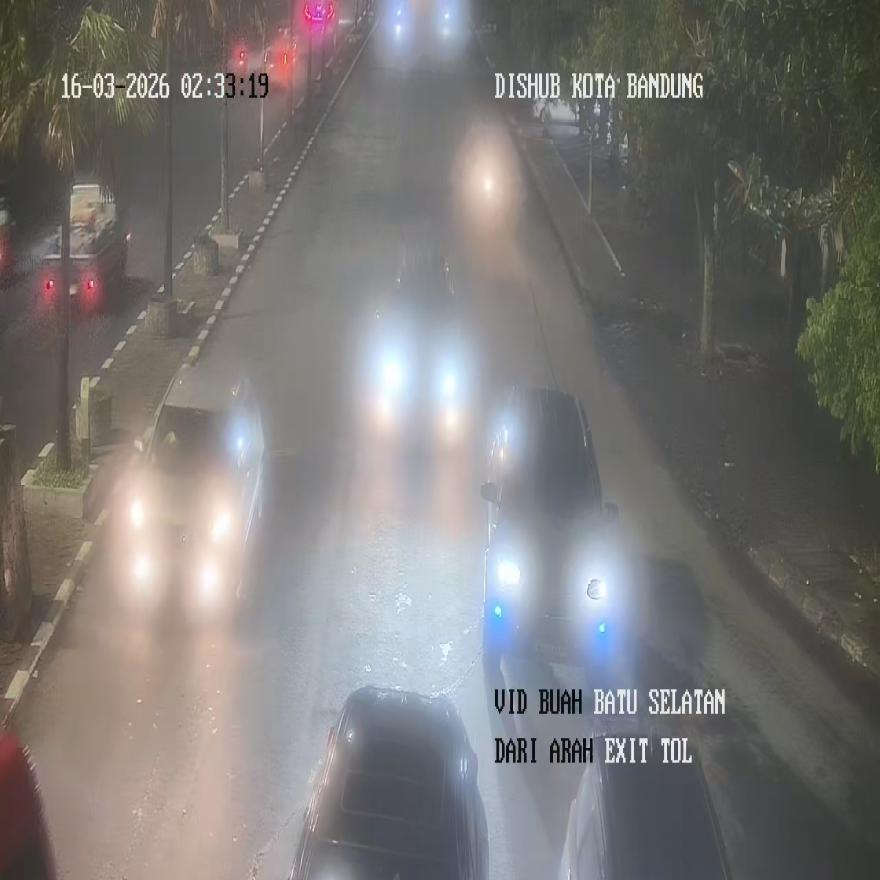Motor: (480, 382, 622, 674), (289, 686, 489, 878), (120, 362, 266, 624), (559, 726, 731, 879), (41, 181, 129, 313)
